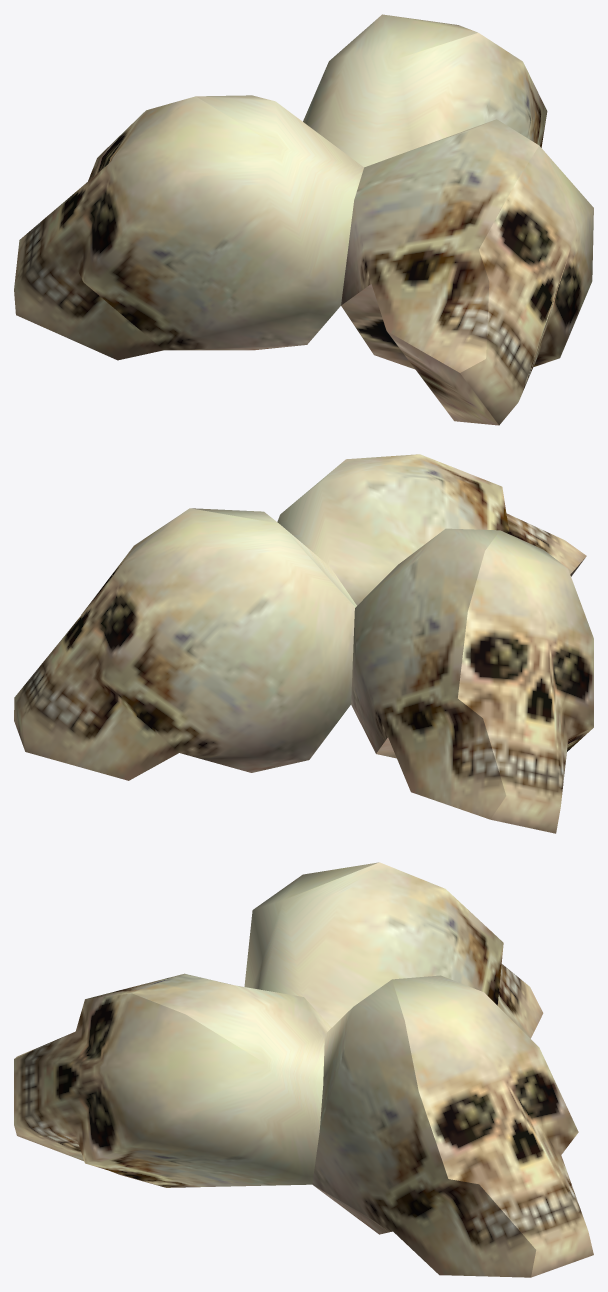
The model's file is d_sk_skl2.glb.
The picture shows the model from 3 angles, top to bottom: view 1: azimuth 30°, elevation 25°; view 2: azimuth 150°, elevation 25°; view 3: azimuth 270°, elevation 25°; orthographic projection. The views are drawn at different scales.
Parts seen in each view (by area): view 1: d_sk_skl2; view 2: d_sk_skl2; view 3: d_sk_skl2.
Part boxes in pixels (bbox=[...]): d_sk_skl2: bbox=[14, 14, 593, 425]; d_sk_skl2: bbox=[14, 454, 593, 833]; d_sk_skl2: bbox=[14, 862, 593, 1277].
Bounding box in the file's own units: 0.4224 × 0.1911 × 0.3977.
Materials: 1 (1 with a texture image).
